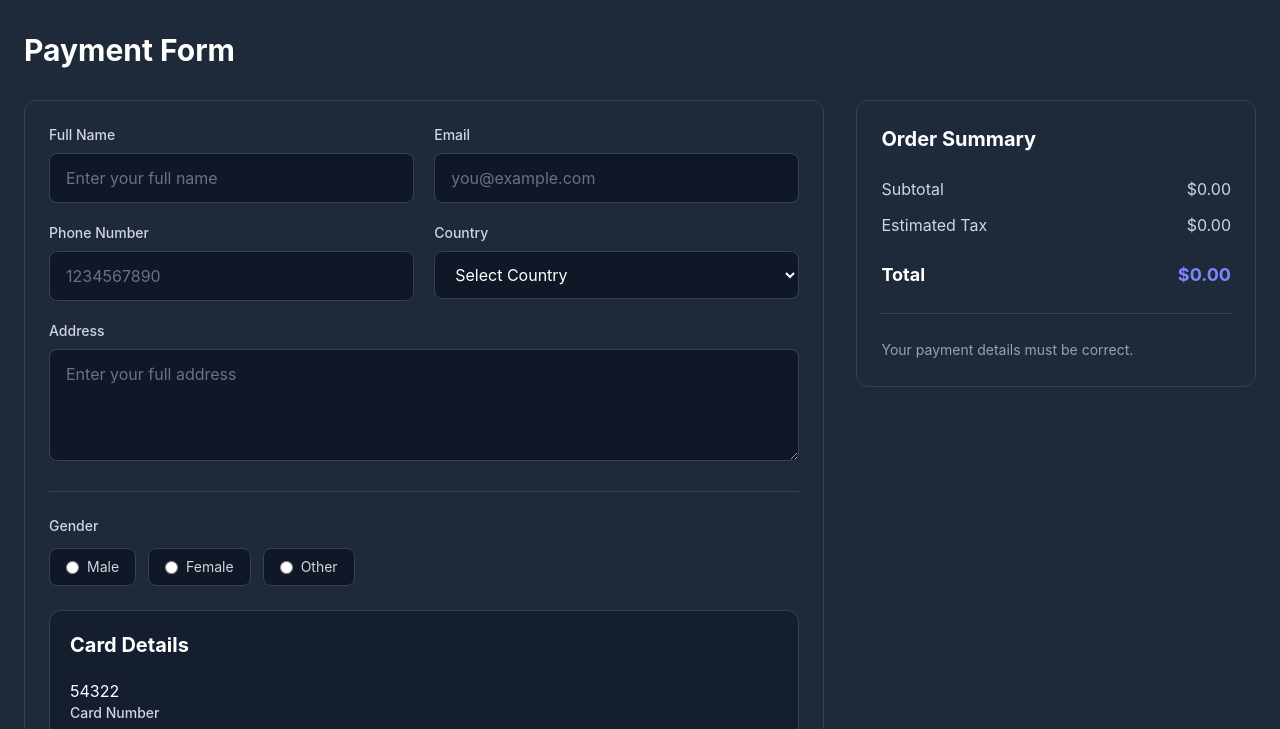
PaymentForm › shows validation messages when wrong values are typed
Type "Al" into the field labelled "Full Name".
click(232, 178); type("Al")  # box x1=49 y1=153 x2=414 y2=203
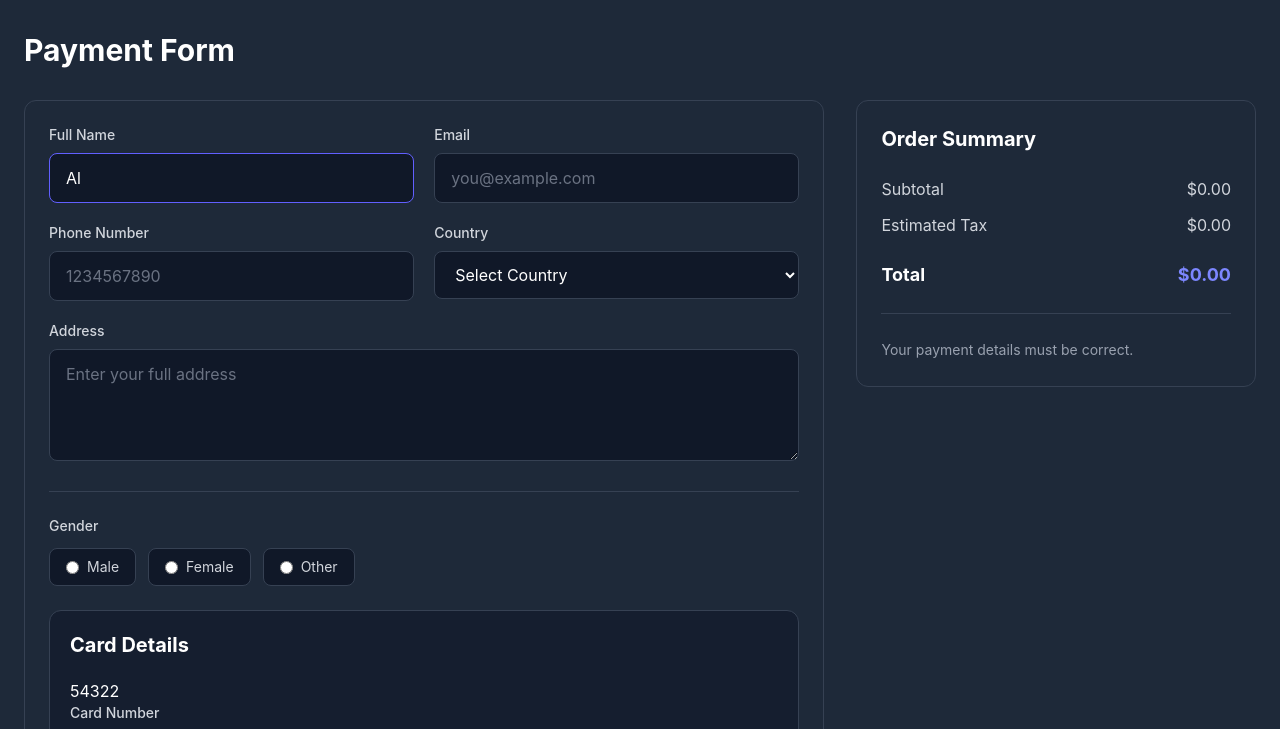
Press Tab
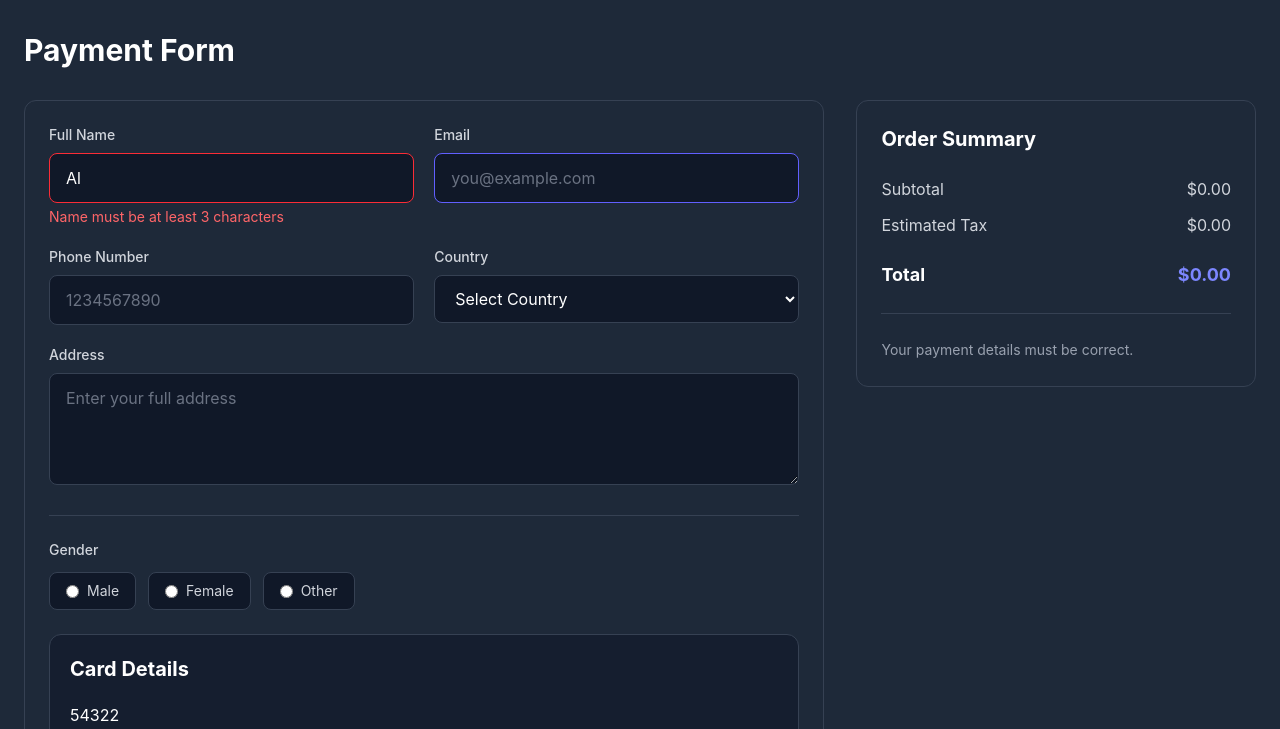
Now the text "Name must be at least 3 characters" is shown, box x1=49 y1=208 x2=284 y2=225
Type "wrong-email" into the field labelled "Email".
click(617, 178); type("wrong-email")  # box x1=434 y1=153 x2=799 y2=203
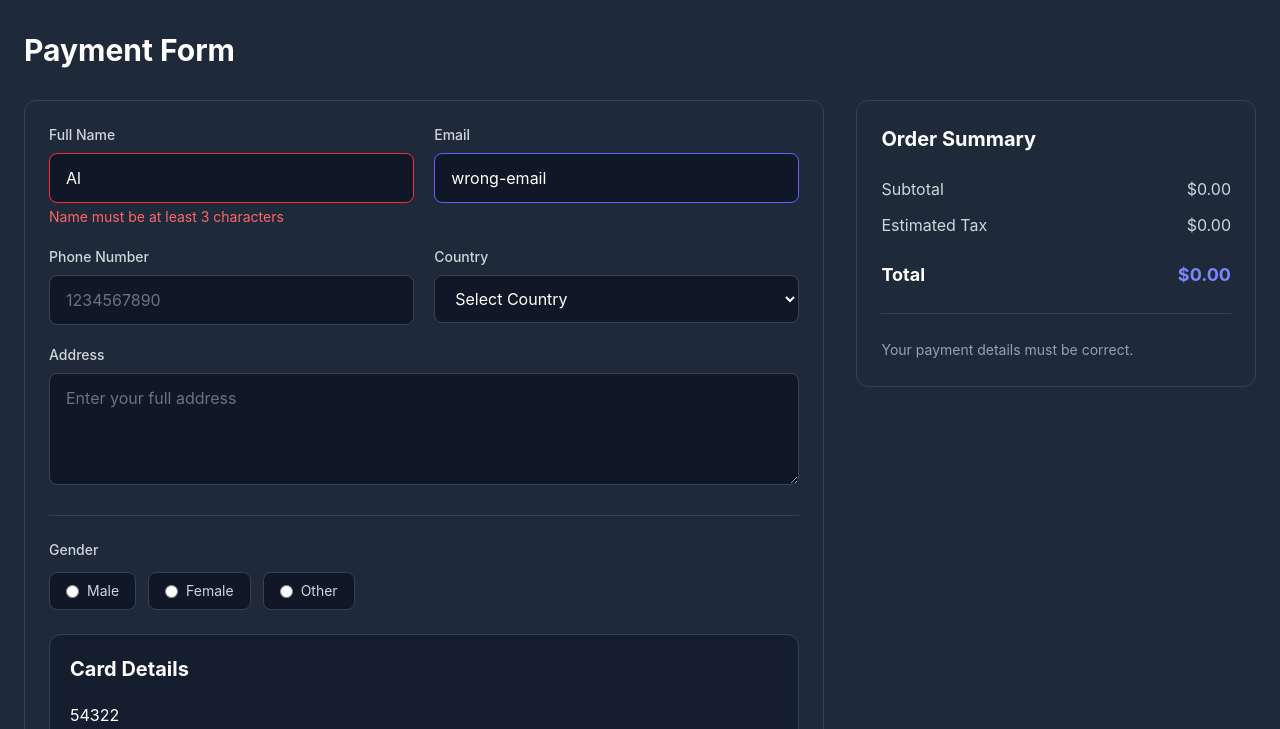
Press Tab
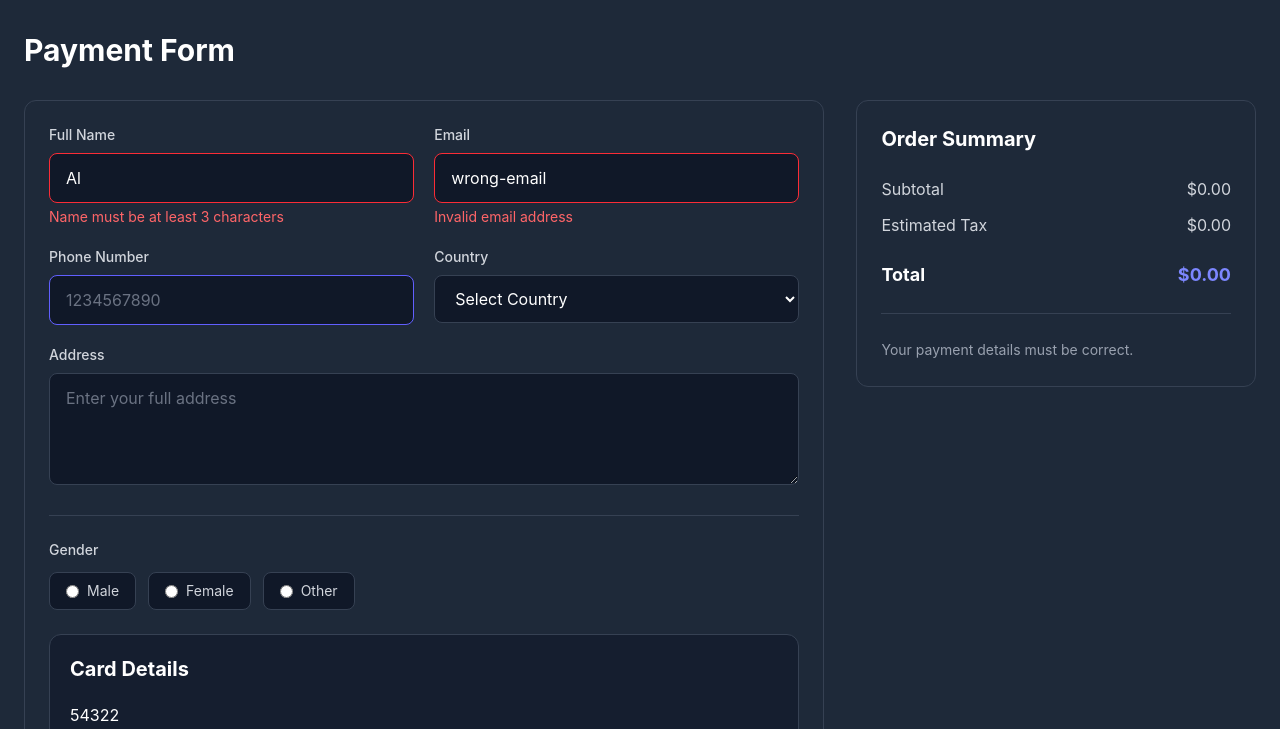
Now the text "Invalid email address" is shown, box x1=434 y1=208 x2=573 y2=225
Type "abcdef" into the field labelled "Phone Number".
click(232, 300); type("abcdef")  # box x1=49 y1=275 x2=414 y2=325
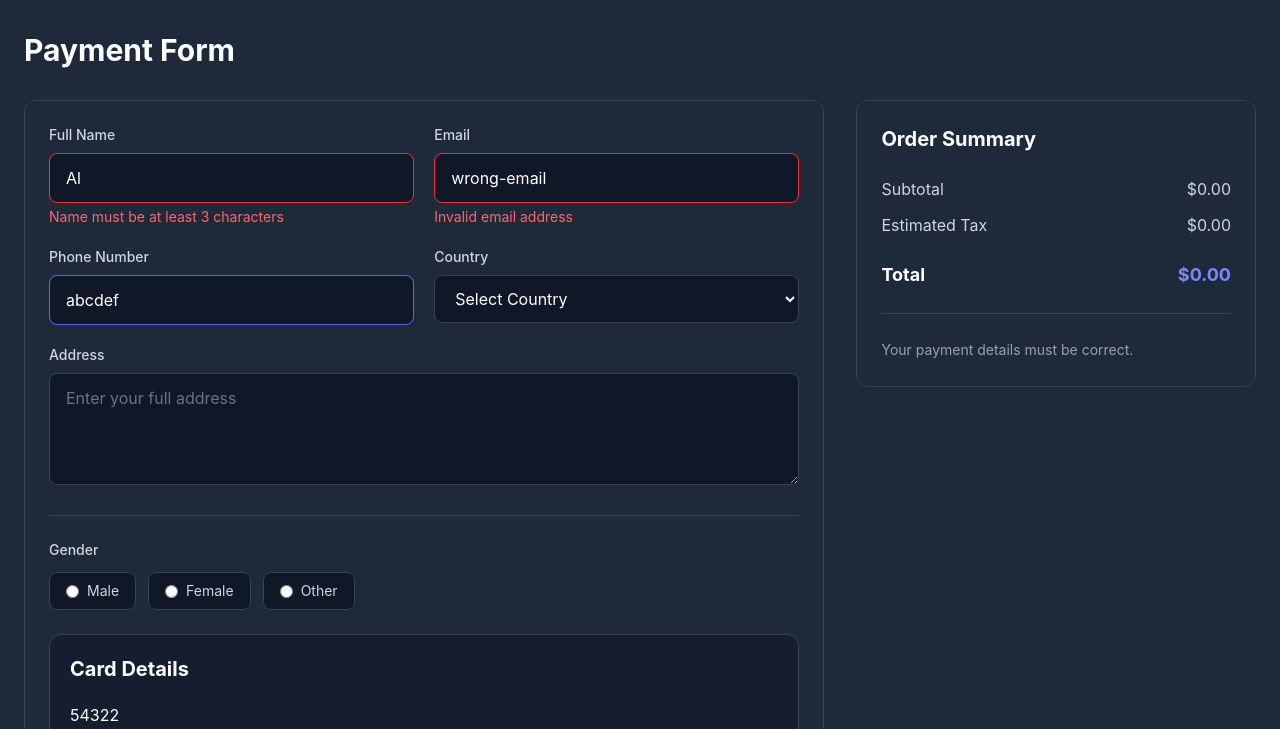
Press Tab
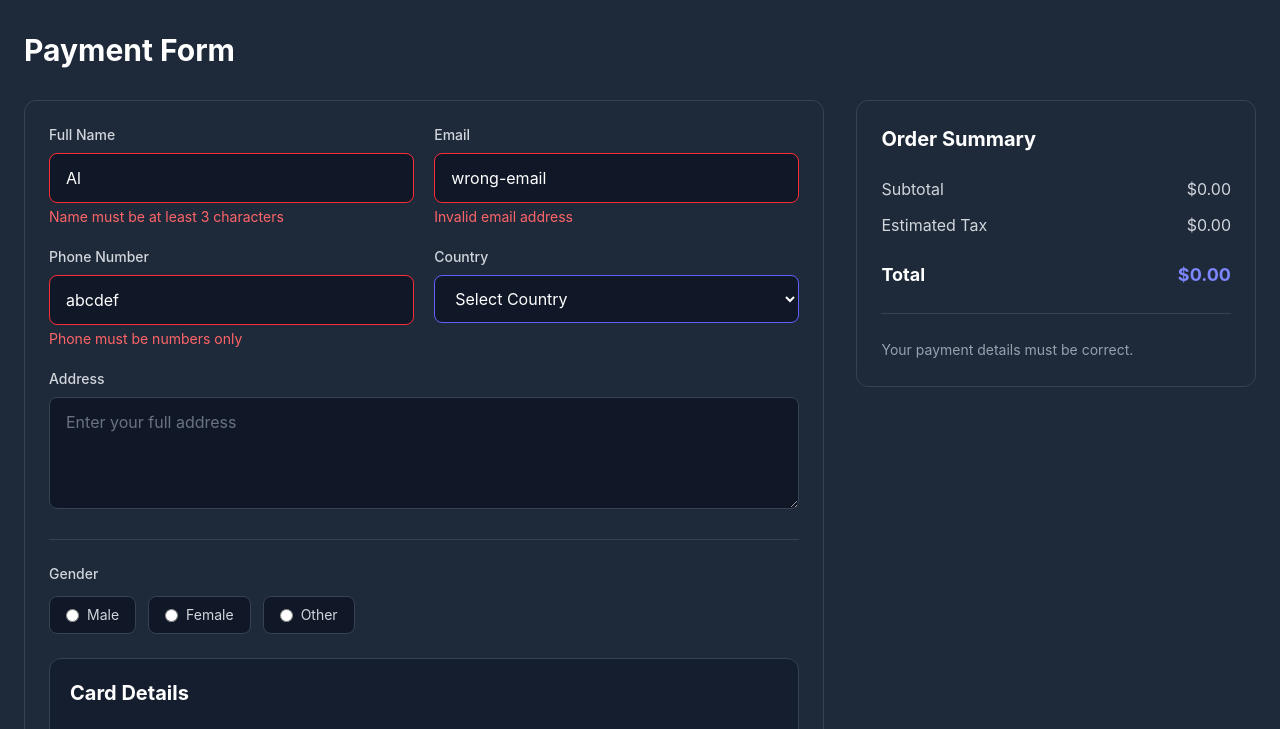
Now the text "Phone must be numbers only" is shown, box x1=49 y1=330 x2=242 y2=347
